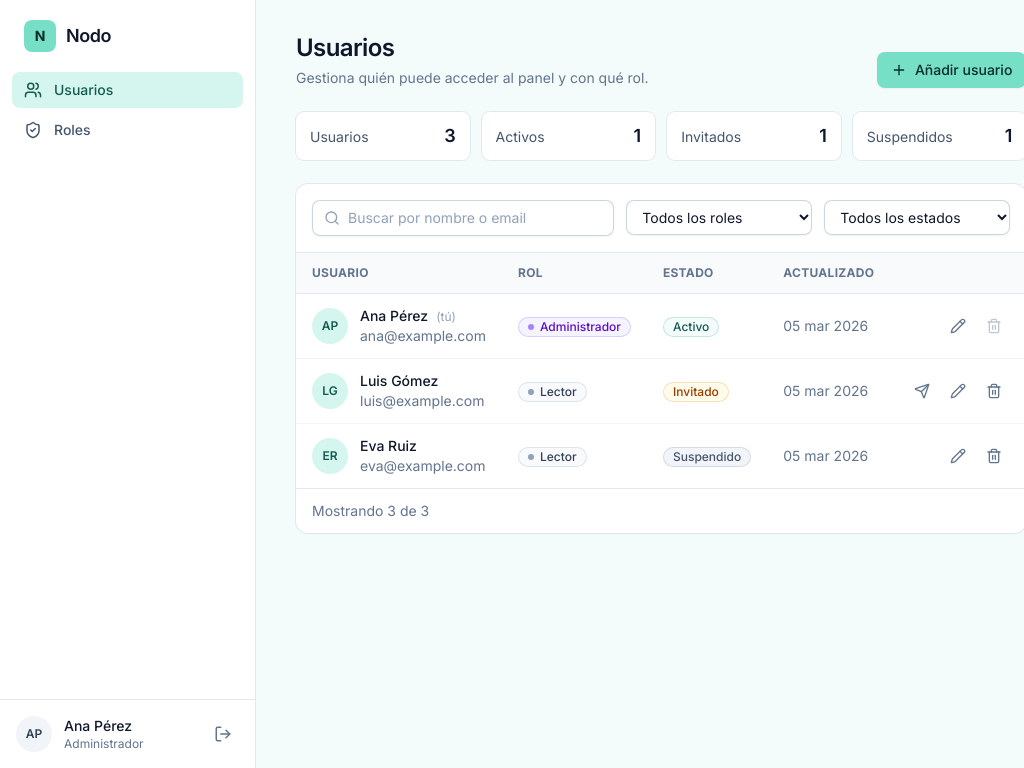
Test: Dashboard › invita a un usuario nuevo y lo anuncia
This screenshot has width=1024, height=768.
Click the button "Añadir usuario".
click(950, 70)  # box [877,52,1023,88]
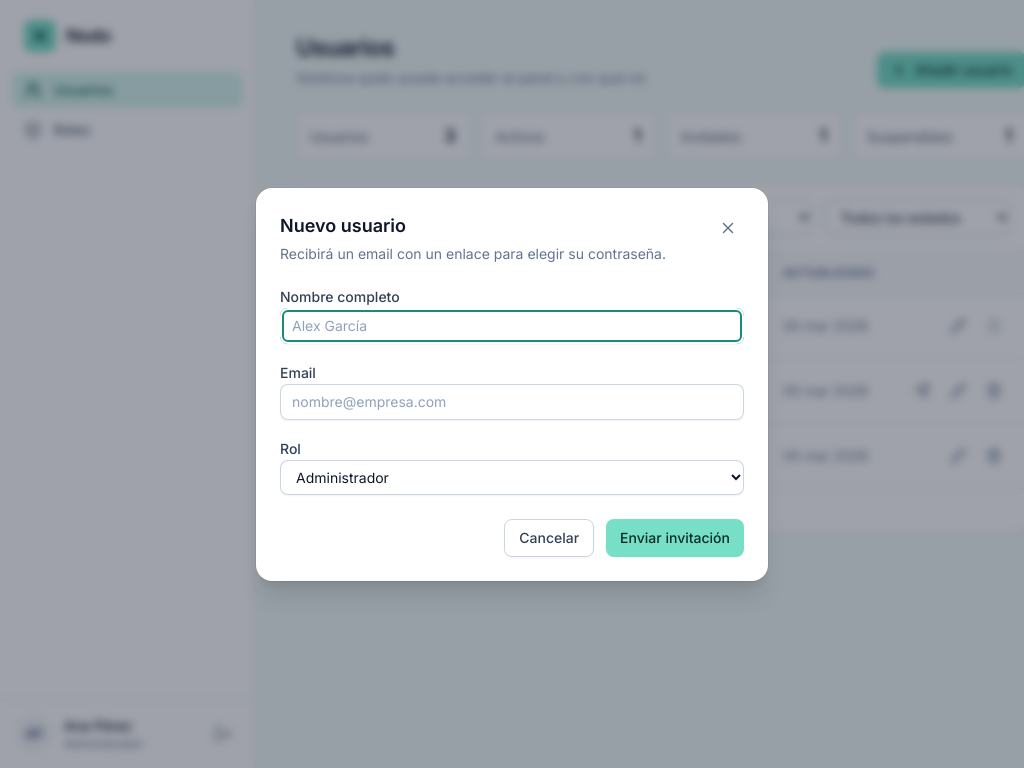
Type "Marta Díaz" into the field labelled "Nombre completo".
click(512, 326); type("Marta Díaz")  # box [280,308,744,344]
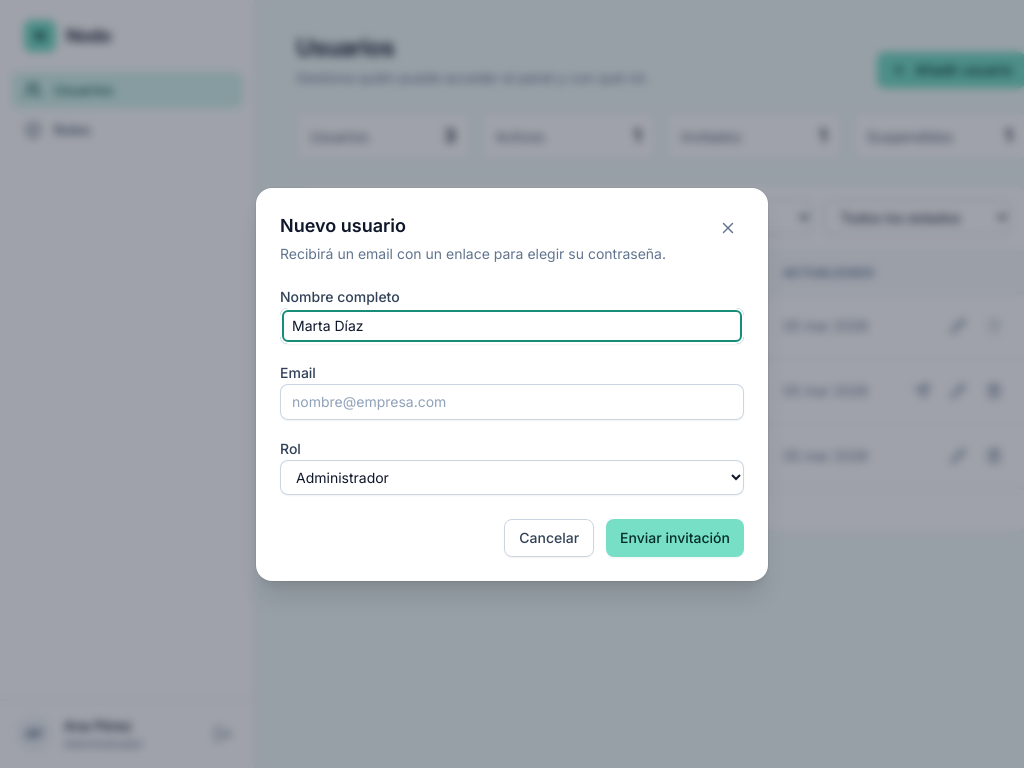
Type "marta@example.com" into the field labelled "Email".
click(512, 402); type("marta@example.com")  # box [280,384,744,420]
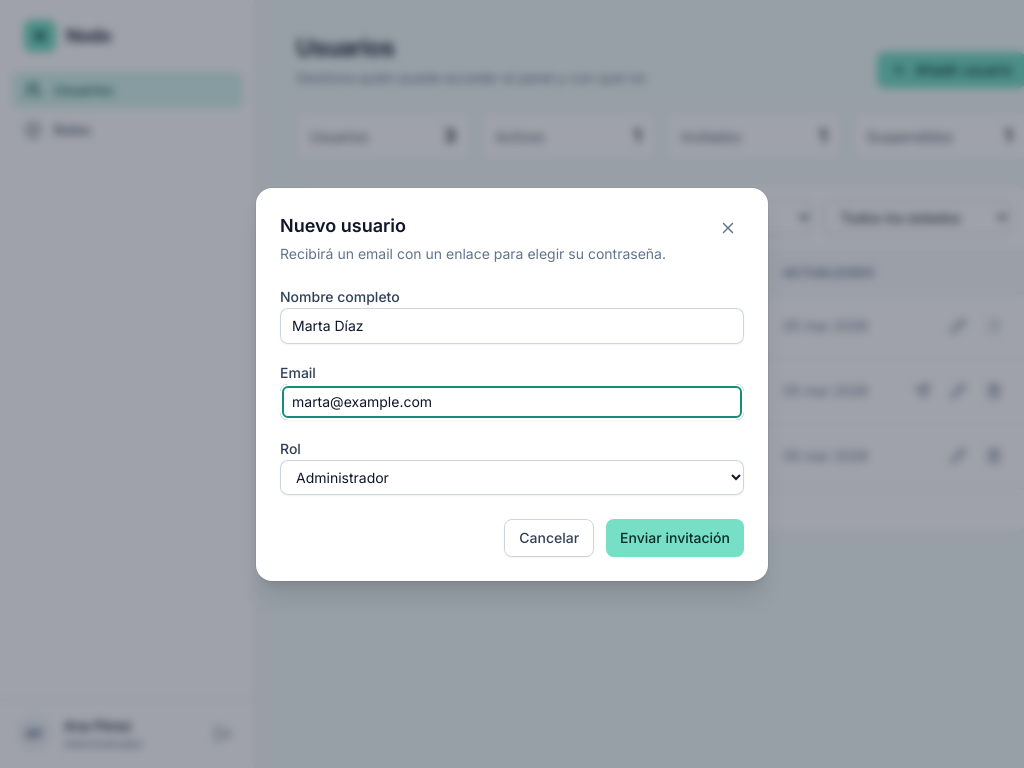
Click the button "Enviar invitación".
click(675, 538)  # box [606,518,744,556]
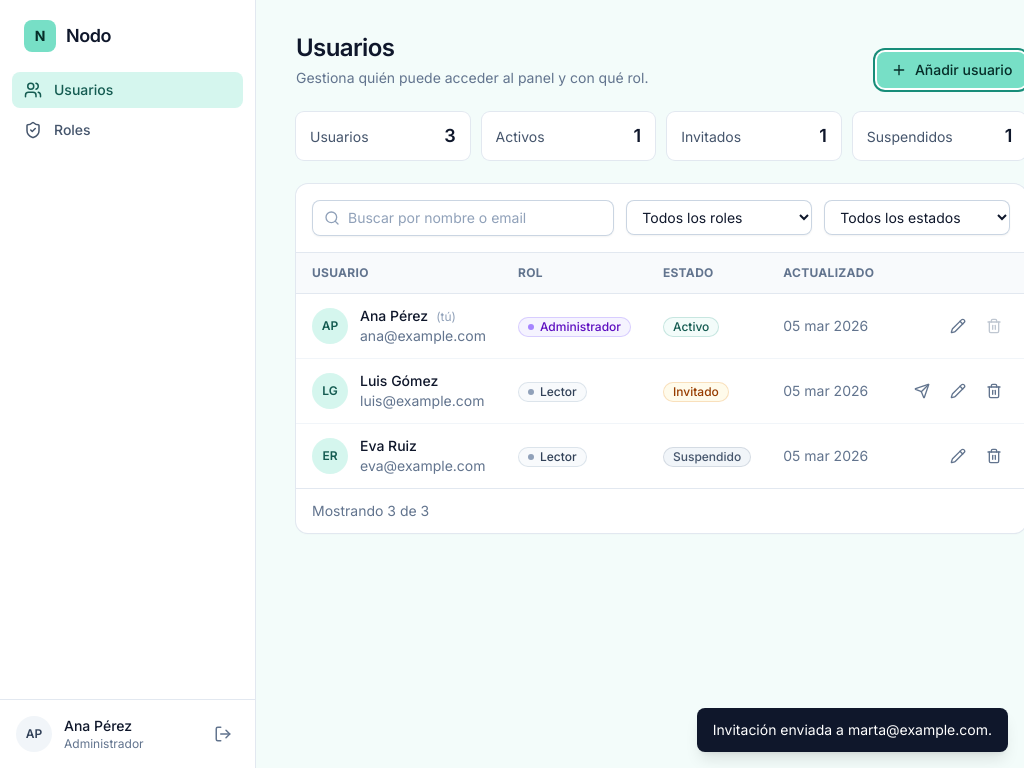
Result: the message reads "Invitación enviada a marta@example.com." at [713,721,992,738]
